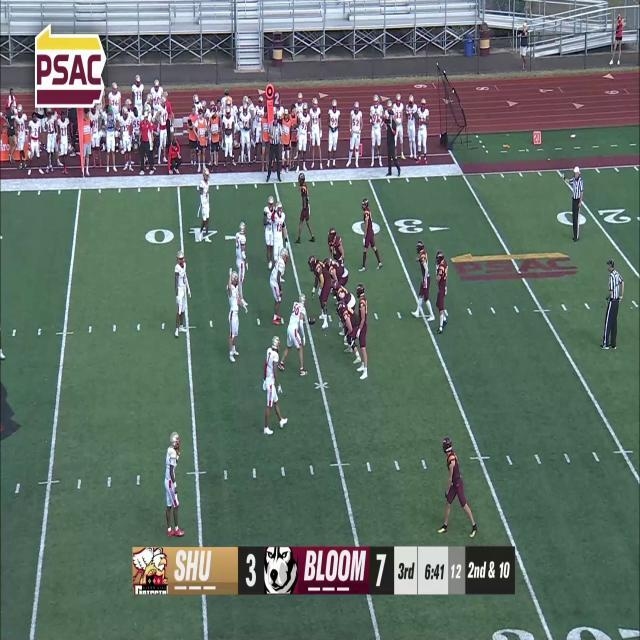football: (308, 316, 316, 326)
